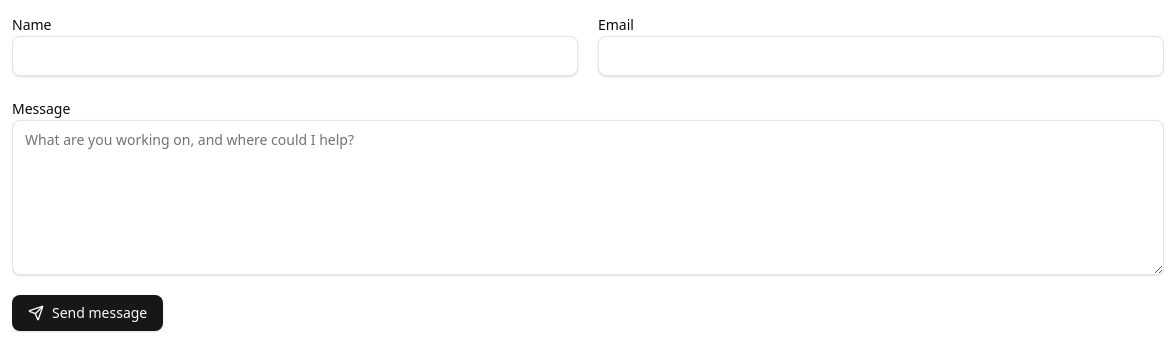
Scenario: <ContactForm> › sends the message with the page locale and confirms
The image size is (1176, 349).
Type "Dilnoza" into the field labelled "Name" at (295, 56), box [12,36,578,76]
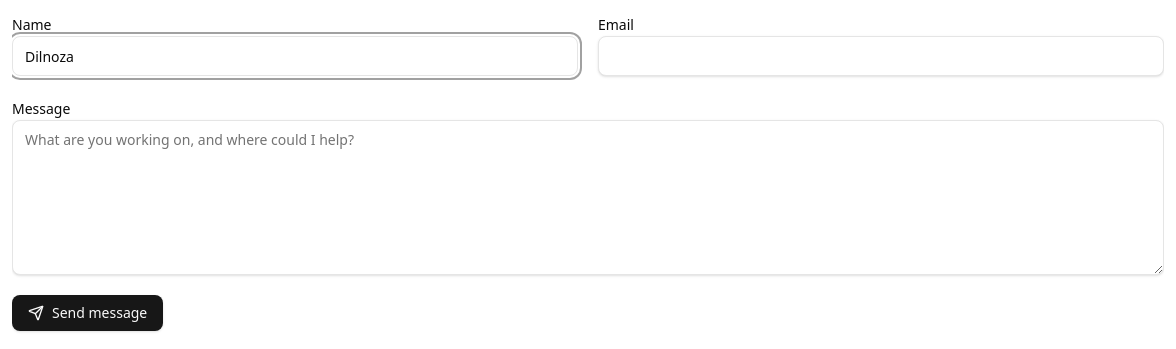
Type "dilnoza@example.com" into the field labelled "Email" at (881, 56), box [598,36,1164,76]
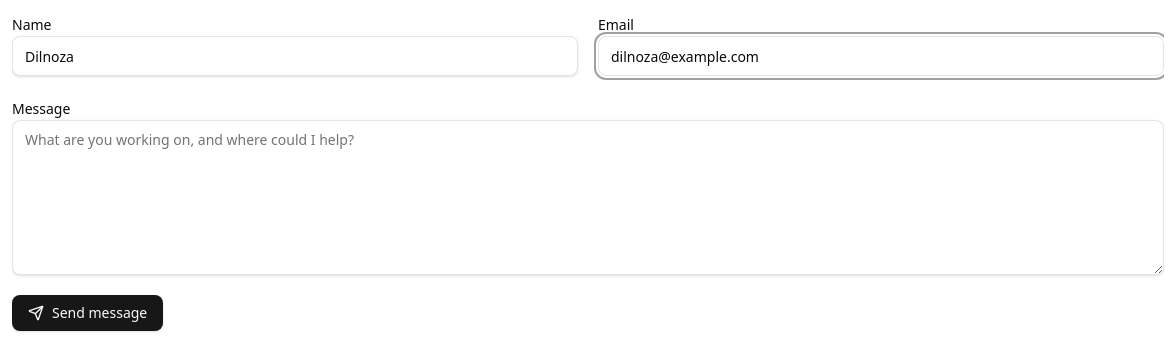
Type "A long enough message." into the text box labelled "Message" at (588, 197), box [12,120,1164,274]
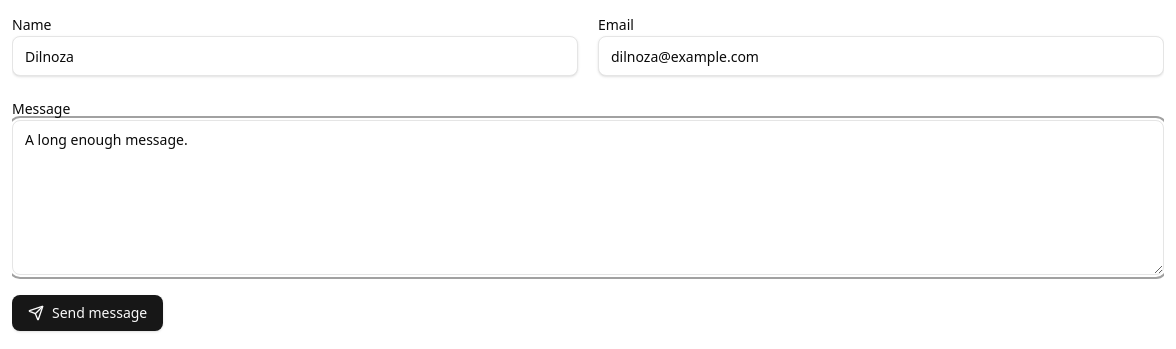
Click the button "Send message" at (88, 312), box [12,294,163,330]
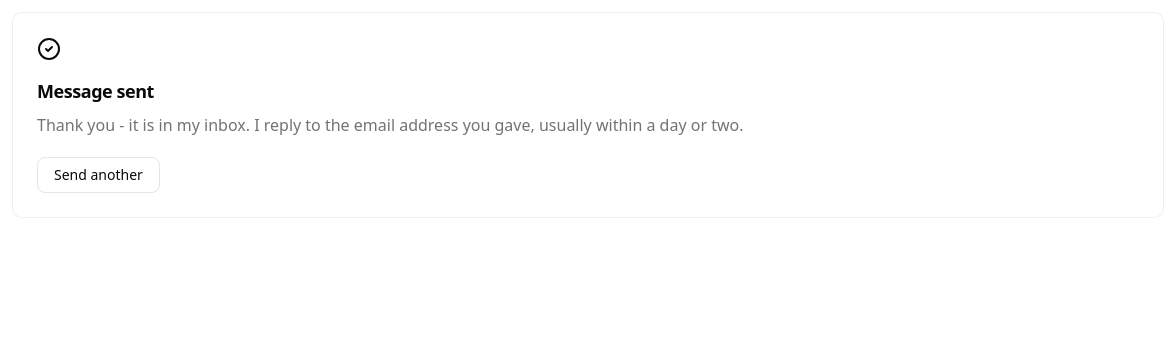
Expected: the message is shown, [12,12,1164,218]
Expected: the heading "Message sent" is shown, [37,79,154,103]
